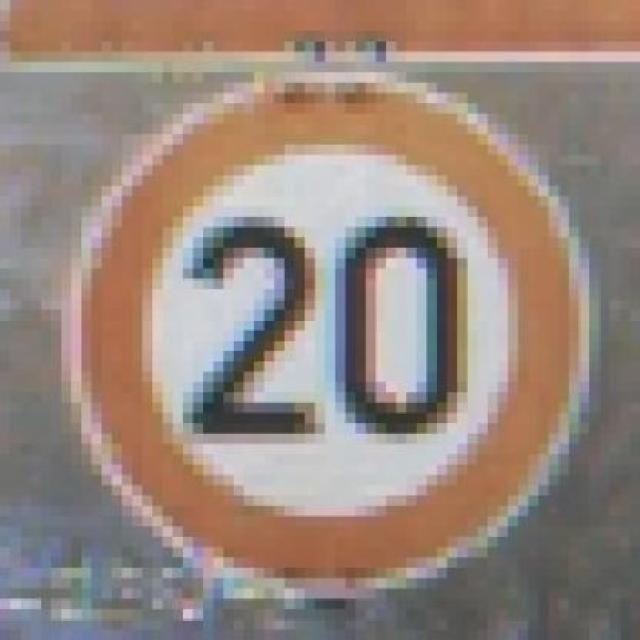forb_speed_over_20: (78, 73, 589, 595)
